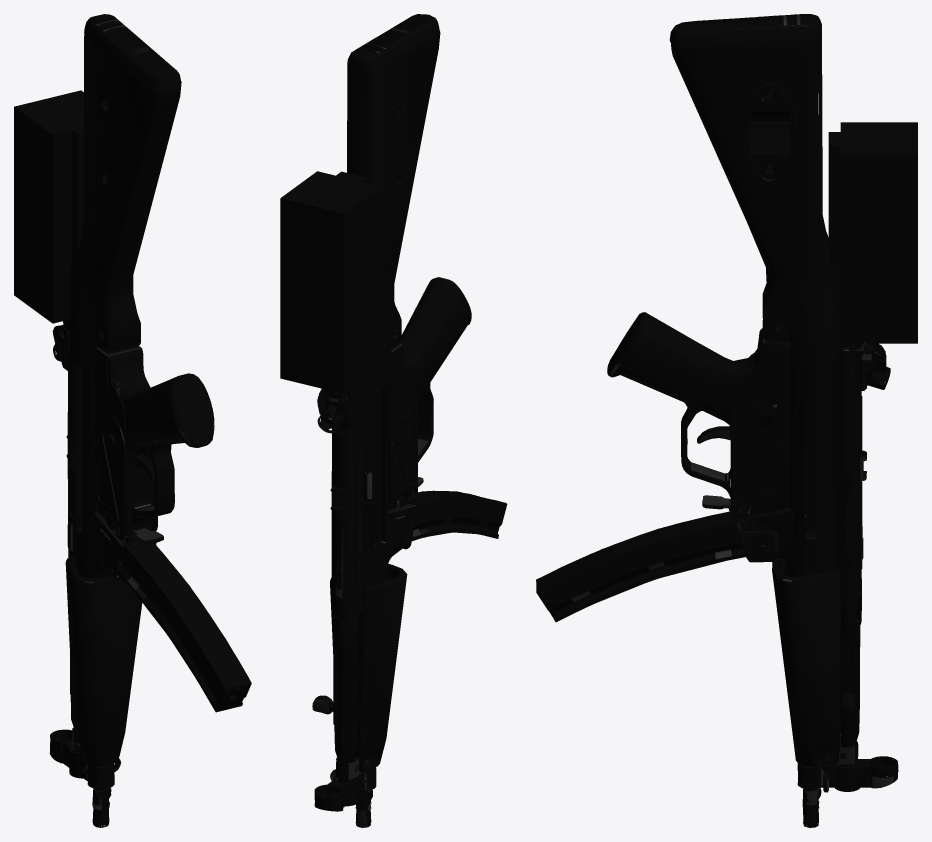
File: MP5A3__Handguard_MP5_Rail.fbx
The picture shows the model from 3 angles, left to right: view 1: azimuth 30°, elevation 25°; view 2: azimuth 150°, elevation 25°; view 3: azimuth 270°, elevation 25°; orthographic projection. The views are drawn at different scales.
Visible parts, largest first — view 1: asset_MP5A3.001; view 2: asset_MP5A3.001; view 3: asset_MP5A3.001.
Boxes of the visible parts, x1=… form: asset_MP5A3.001: x1=14, y1=14, x2=251, y2=827; asset_MP5A3.001: x1=280, y1=14, x2=507, y2=827; asset_MP5A3.001: x1=536, y1=14, x2=917, y2=827.
Size of the model in its own units: 0.0324 by 0.36 by 0.1542.
